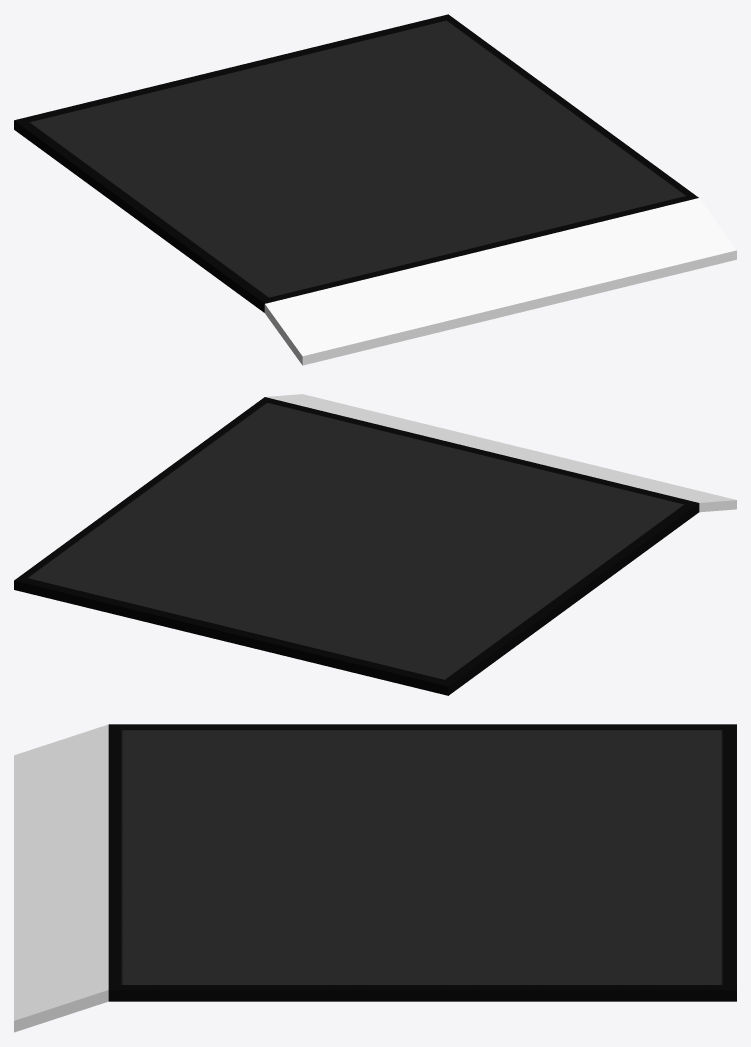
File: Lateral01_Art.fbx
3 renders of one model, top to bottom at view 1: azimuth 30°, elevation 25°; view 2: azimuth 150°, elevation 25°; view 3: azimuth 270°, elevation 25°, orthographic. The views are drawn at different scales.
Parts seen in each view (by area): view 1: Lateral01_Art; view 2: Lateral01_Art; view 3: Lateral01_Art.
Boxes of the visible parts, x1,y1,x2,y2 form: Lateral01_Art: (14, 14, 736, 365); Lateral01_Art: (14, 394, 736, 695); Lateral01_Art: (14, 724, 736, 1032).
Bounding box in the file's own units: 2 × 0.15 × 2.3.
